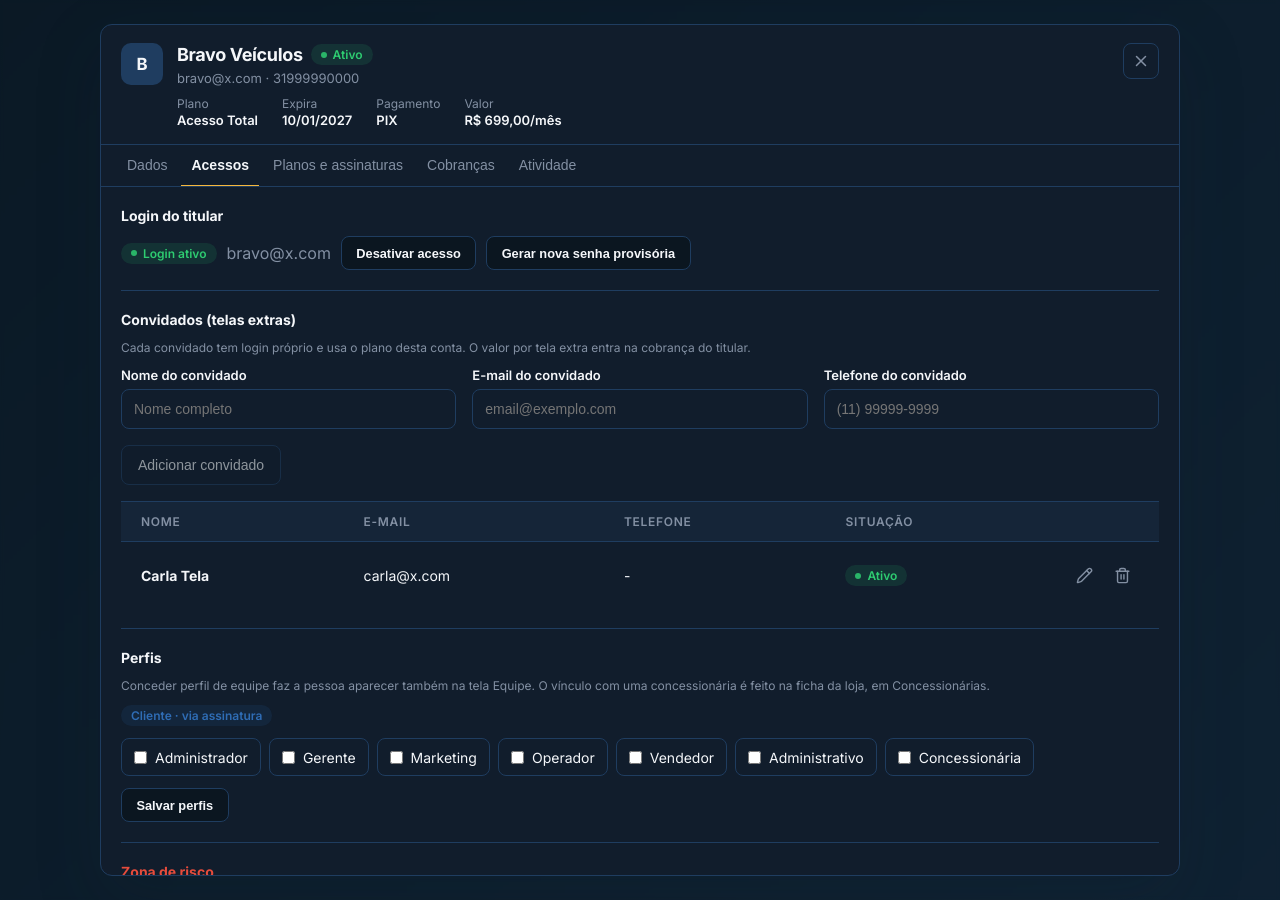
Scenario: Ficha do cliente › desativa o login pela mesma action da tela Equipe
Expected: the heading "Bravo Veículos" is shown, [177,43,303,66]
Click the button "Desativar acesso".
click(409, 253)  # box [341,236,476,270]
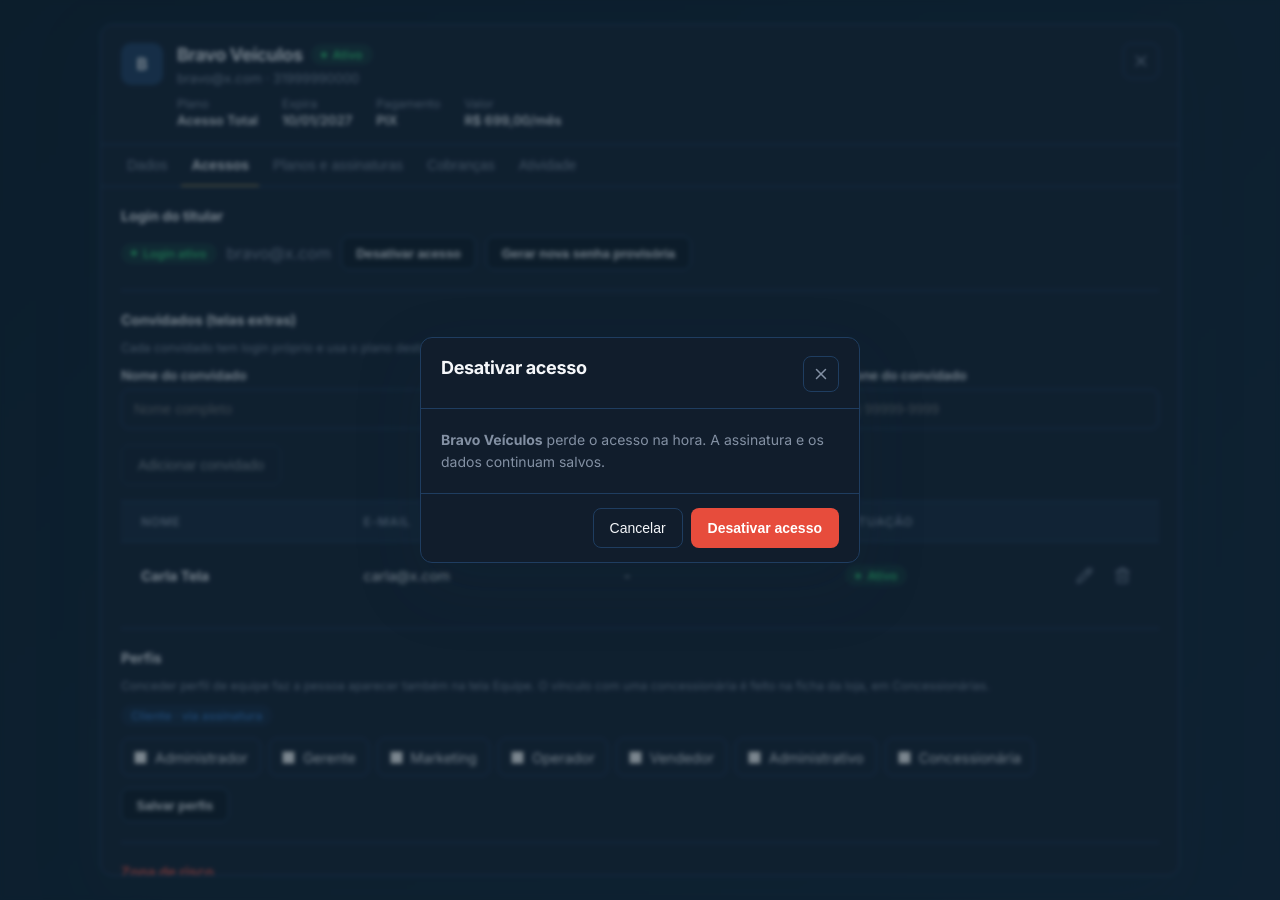
Click the button "Desativar acesso".
click(765, 528)  # box [691,508,839,548]
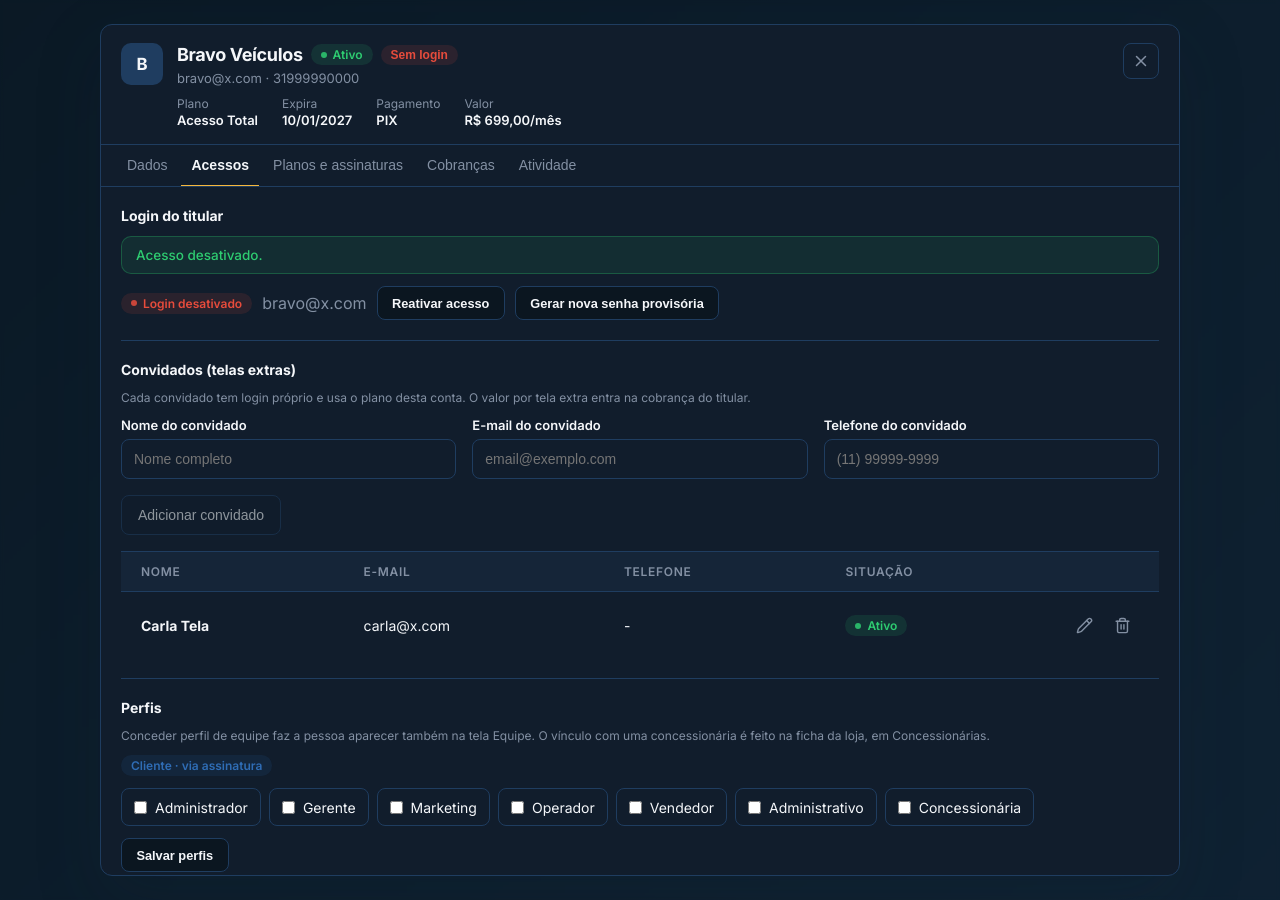
Result: the text "Login desativado" is shown at [121,293,252,314]
